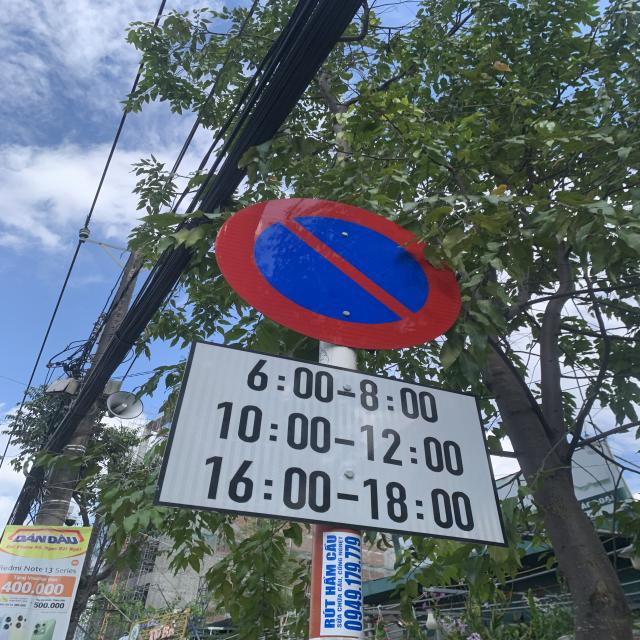Cam_Dau_Xe: (215, 195, 466, 351)
